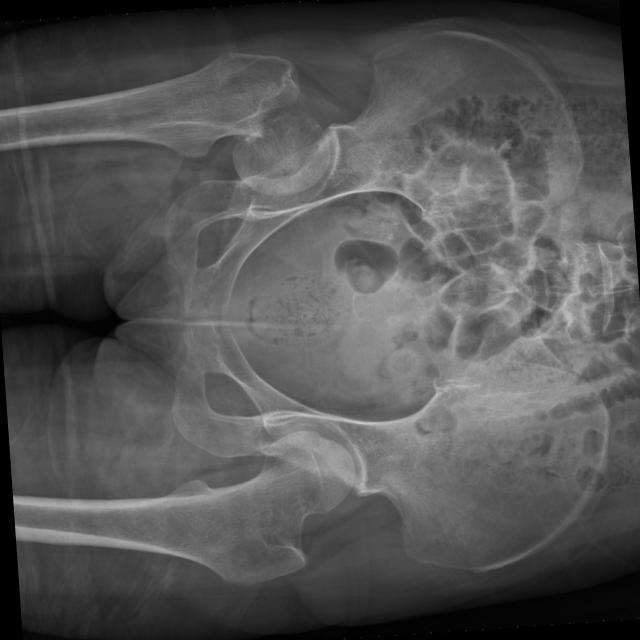normal-left: (11, 430, 354, 585)
right-neck: (79, 52, 299, 157), (232, 113, 329, 195)
